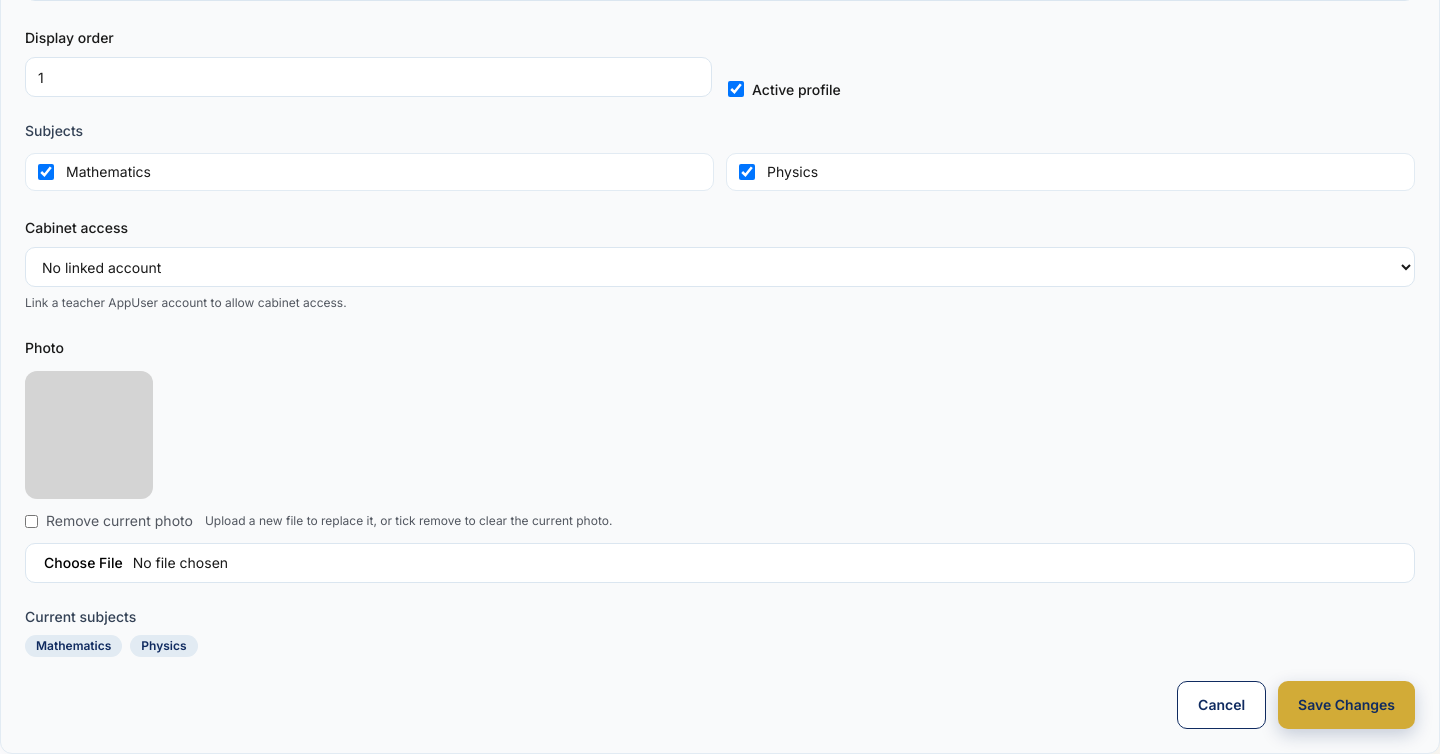
Test: TeacherForm admin controls › confirms current photo removal with the teacher name before saving
(page scrolled)
Click the checkbox labelled "Remove current photo" at (32, 521), box [25,514,38,528]
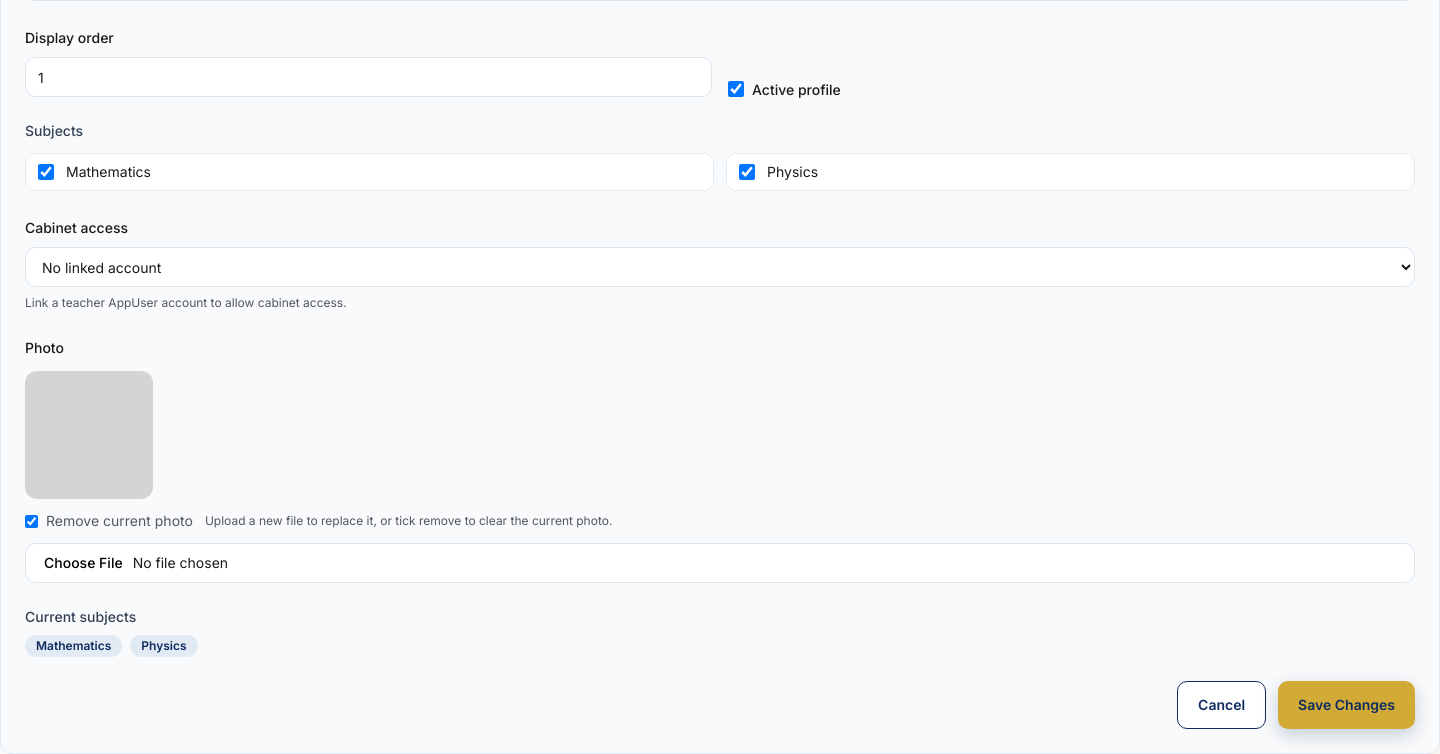
Click the button "Save Changes" at (1347, 705), box [1278,681,1415,729]
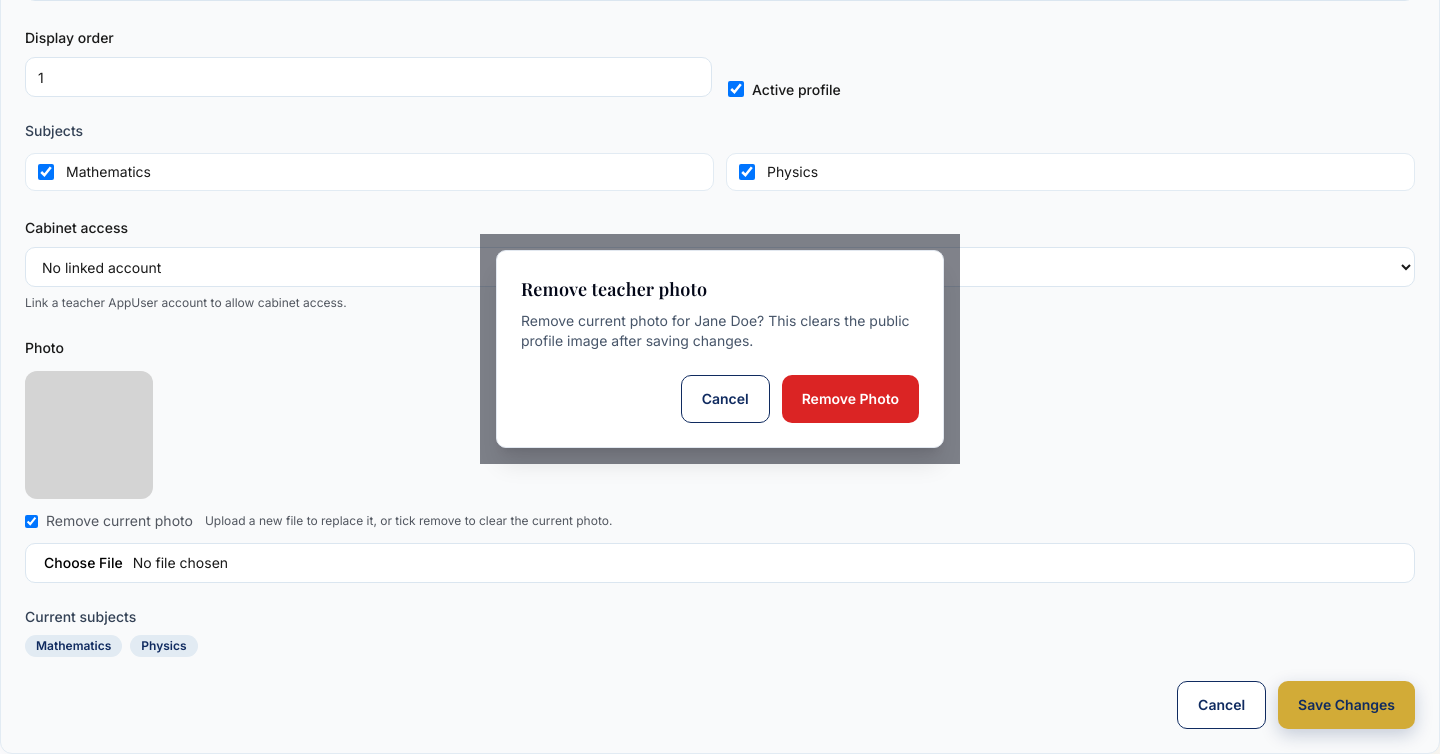
Check: the text "Jane Doe" is shown, box [521,312,910,349]
